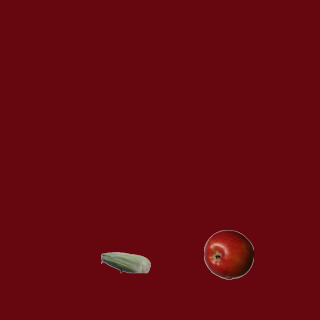Apple Braeburn: (203, 229, 253, 279)
Corn Husk: (100, 237, 150, 287)
